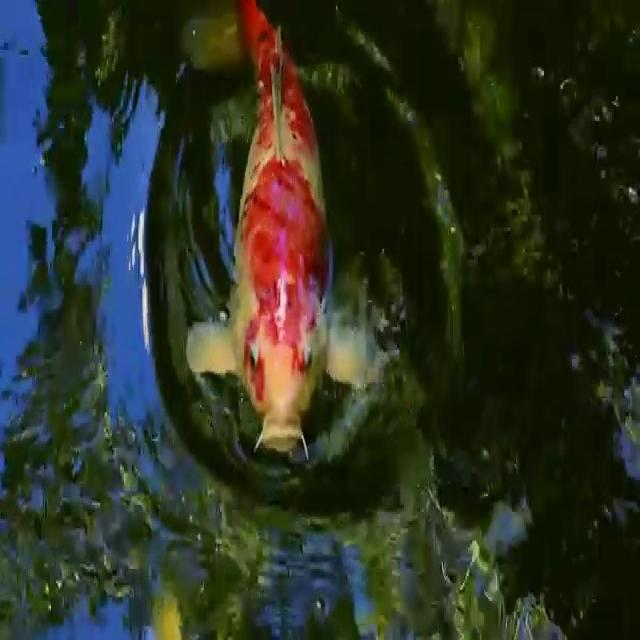fish: (182, 0, 384, 466)
